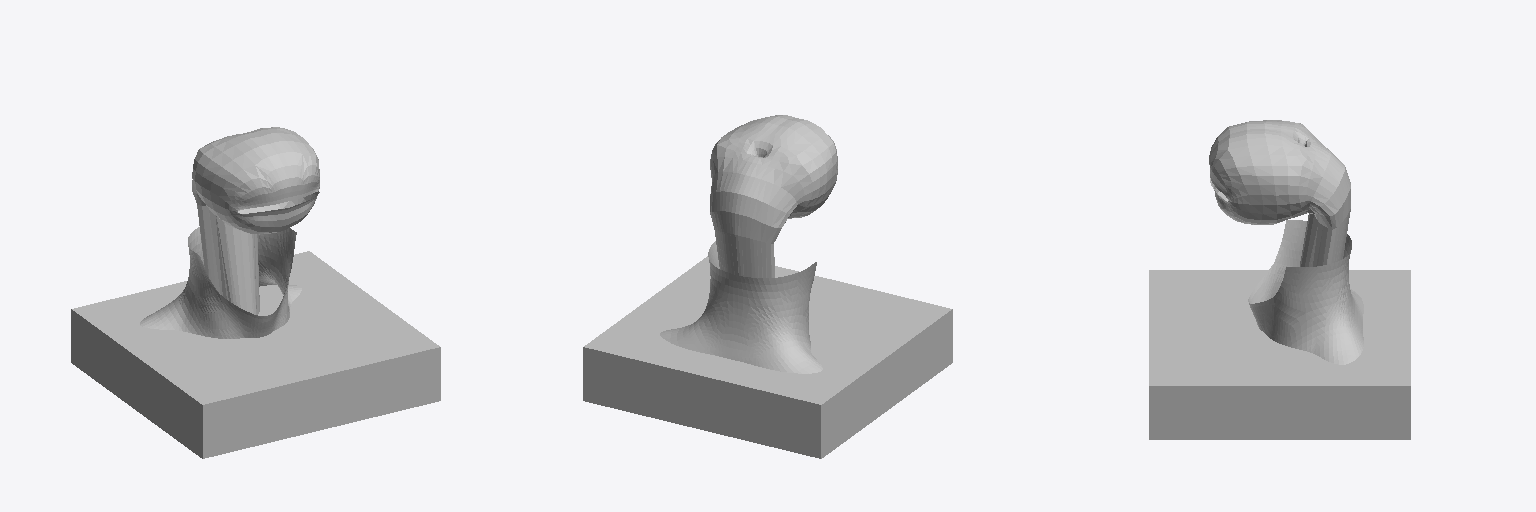
File: male3.obj
The picture shows the model from 3 angles: view 1: azimuth 30°, elevation 25°; view 2: azimuth 150°, elevation 25°; view 3: azimuth 270°, elevation 25°; orthographic projection.
Parts seen in each view (by area): view 1: object_1, Genesis2Female, neck; view 2: object_1, Genesis2Female, neck; view 3: object_1, Genesis2Female, neck.
Part boxes in pixels (bbox=[...]): object_1: bbox=[71, 251, 440, 458]; Genesis2Female: bbox=[192, 127, 319, 314]; neck: bbox=[140, 227, 301, 338]; object_1: bbox=[583, 256, 952, 458]; Genesis2Female: bbox=[710, 115, 837, 277]; neck: bbox=[660, 241, 822, 373]; object_1: bbox=[1149, 270, 1410, 439]; Genesis2Female: bbox=[1209, 120, 1350, 266]; neck: bbox=[1248, 220, 1363, 364].
Bounding box in the file's own units: 0.1224 × 0.1239 × 0.1169.